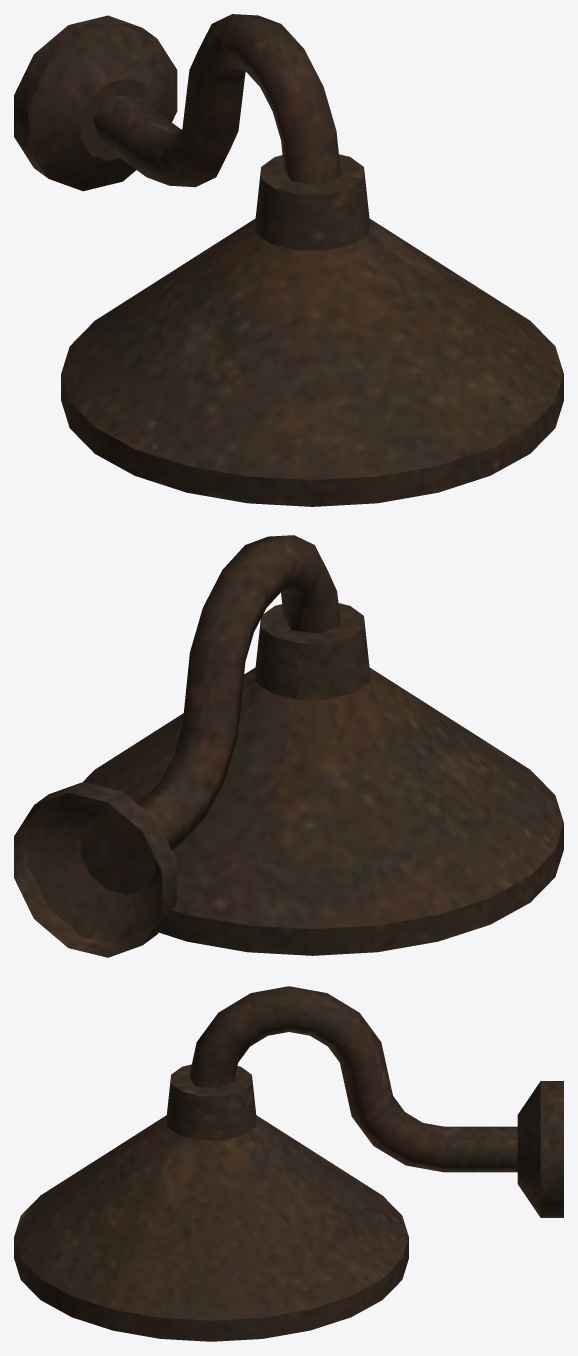
File: lamp_mx_3_off.dae
3 renders of one model, top to bottom at view 1: azimuth 30°, elevation 25°; view 2: azimuth 150°, elevation 25°; view 3: azimuth 270°, elevation 25°, orthographic. The views are drawn at different scales.
Visible parts, largest first — view 1: lamp_mx_3_off; view 2: lamp_mx_3_off; view 3: lamp_mx_3_off.
Boxes of the visible parts, bbox=[...] form: lamp_mx_3_off: bbox=[14, 14, 563, 506]; lamp_mx_3_off: bbox=[14, 535, 563, 957]; lamp_mx_3_off: bbox=[14, 986, 563, 1341].
Size of the model in its own units: 0.51 by 0.71 by 0.418.
2 materials, 2 textured.
